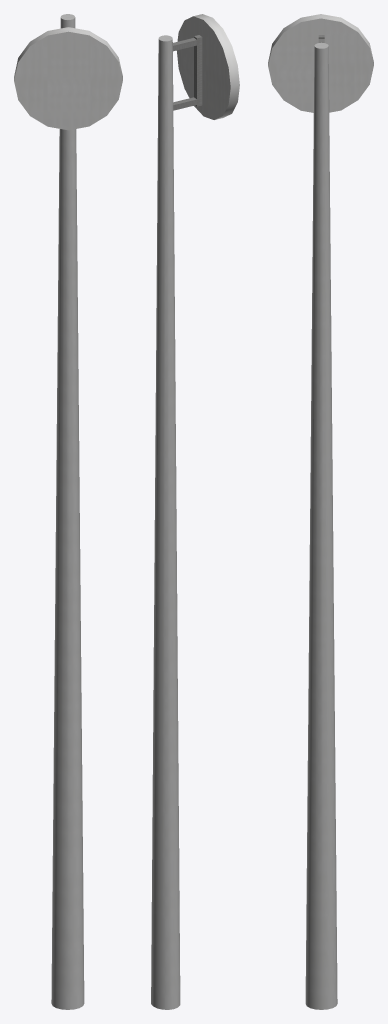
The model's file is tower-microwave-dish-2x20-cbj_LOD01.gltf.
The picture shows the model from 3 angles, left to right: view 1: azimuth 90°, elevation 25°; view 2: azimuth 210°, elevation 25°; view 3: azimuth 270°, elevation 25°; orthographic projection. The views are drawn at different scales.
Visible parts, largest first — view 1: post01; view 2: post01; view 3: post01.
Boxes of the visible parts, x1=… form: post01: x1=14, y1=14, x2=122, y2=1009; post01: x1=151, y1=14, x2=239, y2=1009; post01: x1=268, y1=14, x2=373, y2=1009.
Bounding box in the file's own units: 1.31 × 20.18 × 2.
